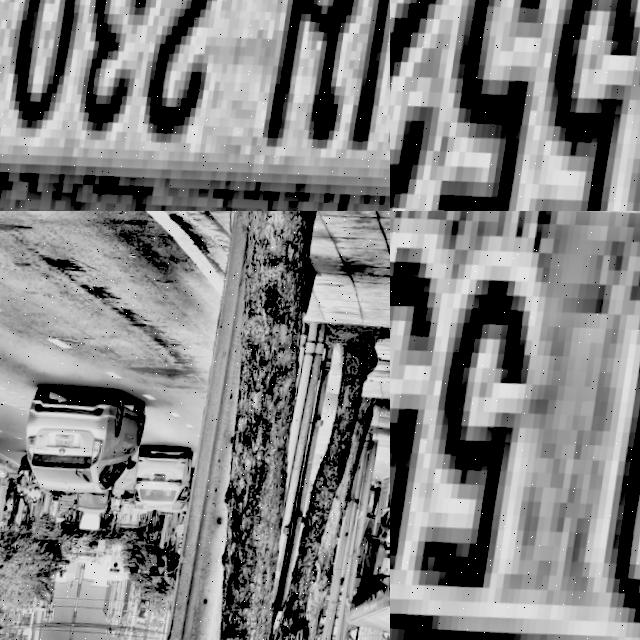license-plate: (390, 211, 640, 640), (0, 0, 390, 211), (390, 0, 640, 211), (57, 437, 77, 451), (156, 478, 169, 486)
